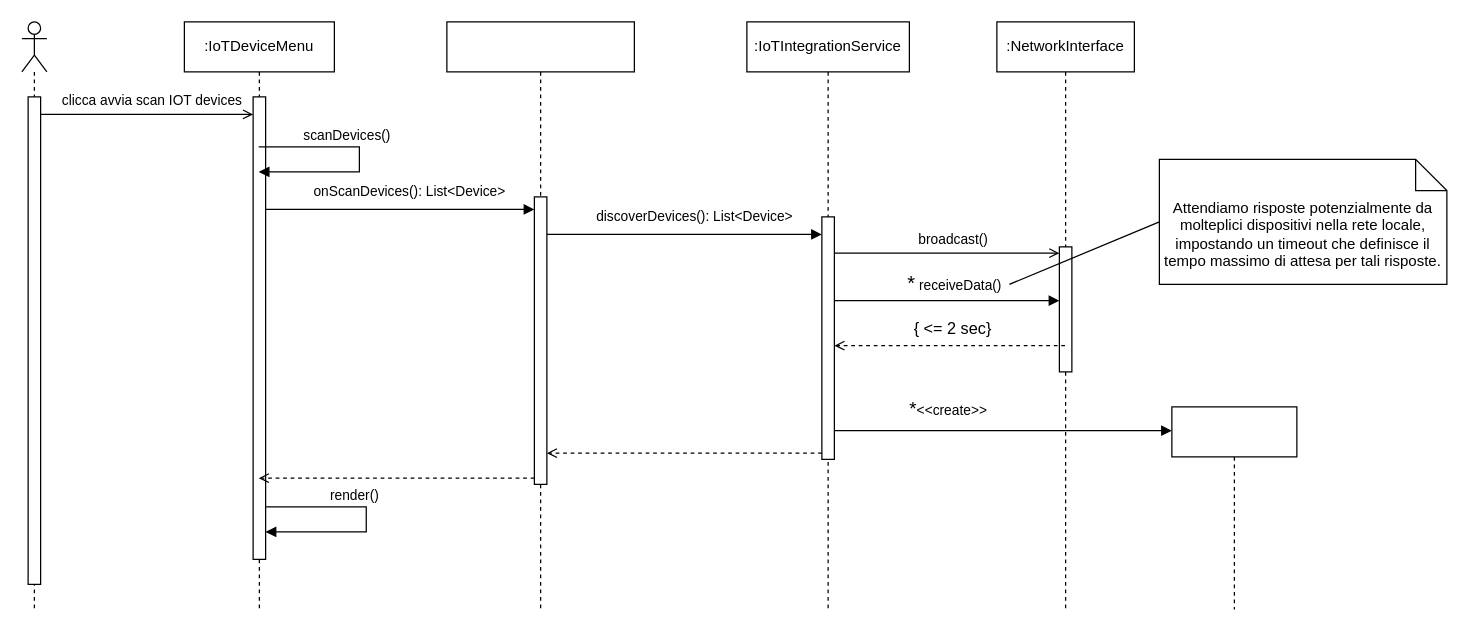
This 1469x631 diagram has some shape labels left out. Here are the shapes that lost their labels. From the top down, the box of each, then its label:
(446, 21, 634, 609): :IoTDeviceController
(1171, 406, 1297, 609): :Device
